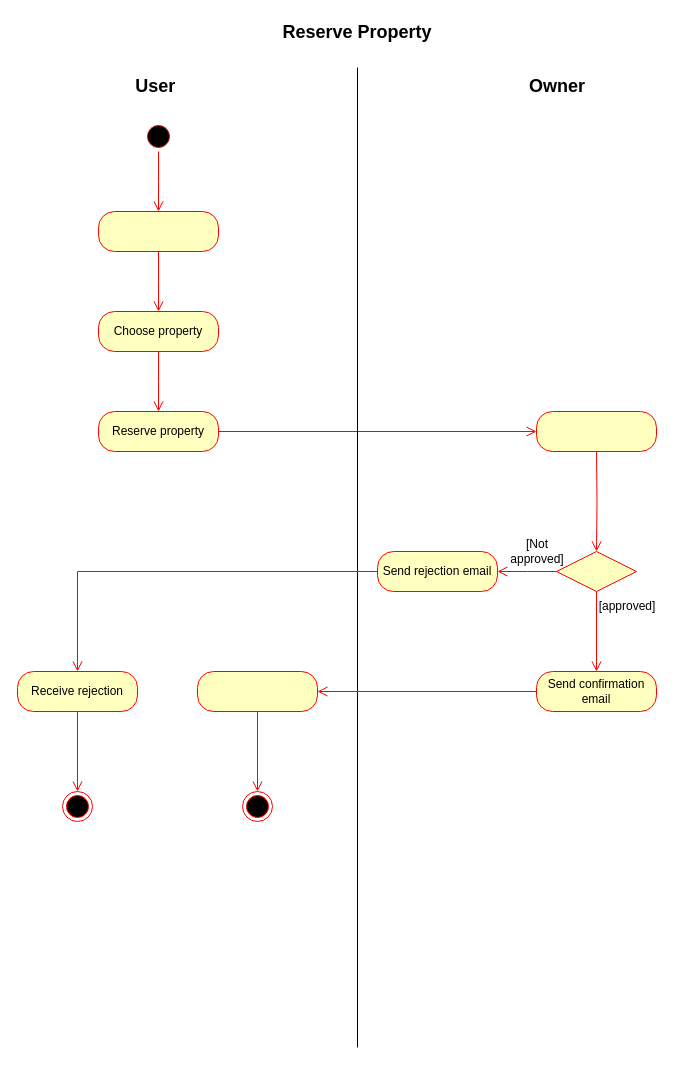
This 675x1066 diagram has some shape labels left out. Each missing label, with the centre of its shape:
"Approve reservation" goes at (596,431).
"Receive confirmation" goes at (257,691).
"See available properties" goes at (158,231).
